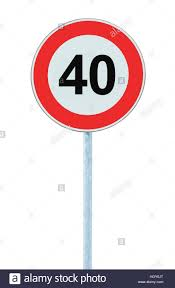Speed_limit_40km: (30, 18, 146, 132)
